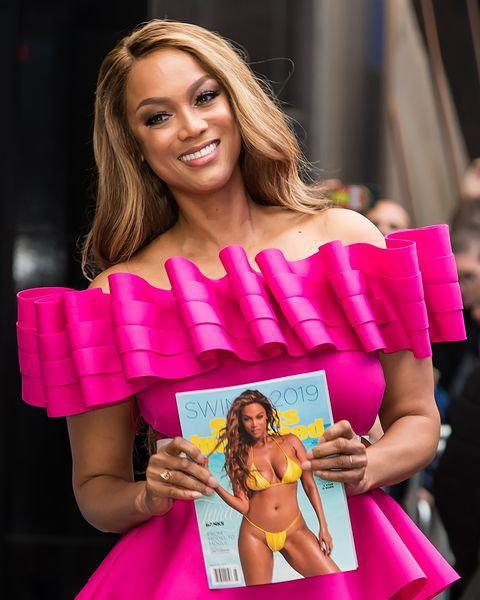Sober: (127, 48, 245, 180)
